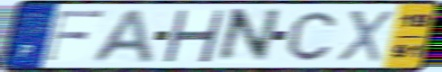A: (86, 7, 156, 65)
C: (285, 9, 339, 63)
F: (43, 9, 107, 63)
H: (160, 8, 227, 64)
N: (213, 6, 285, 66)
X: (335, 9, 395, 64)
